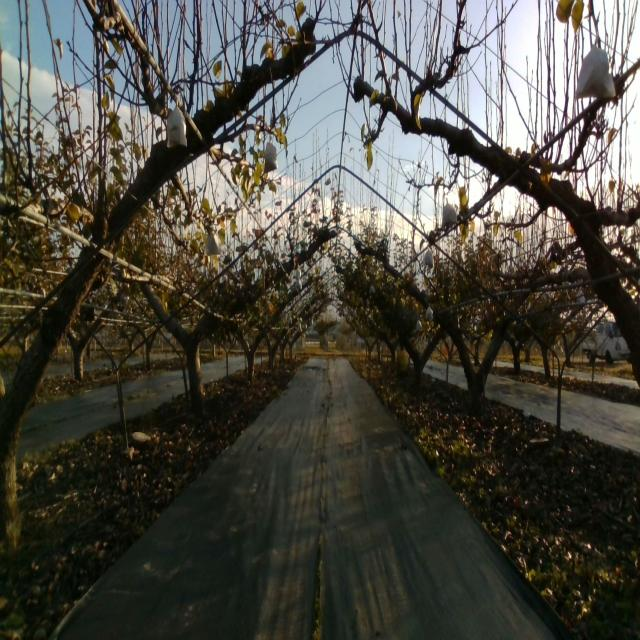pearbags: (573, 30, 617, 101), (165, 93, 188, 149), (440, 196, 460, 225), (264, 134, 278, 172), (205, 230, 222, 255)
